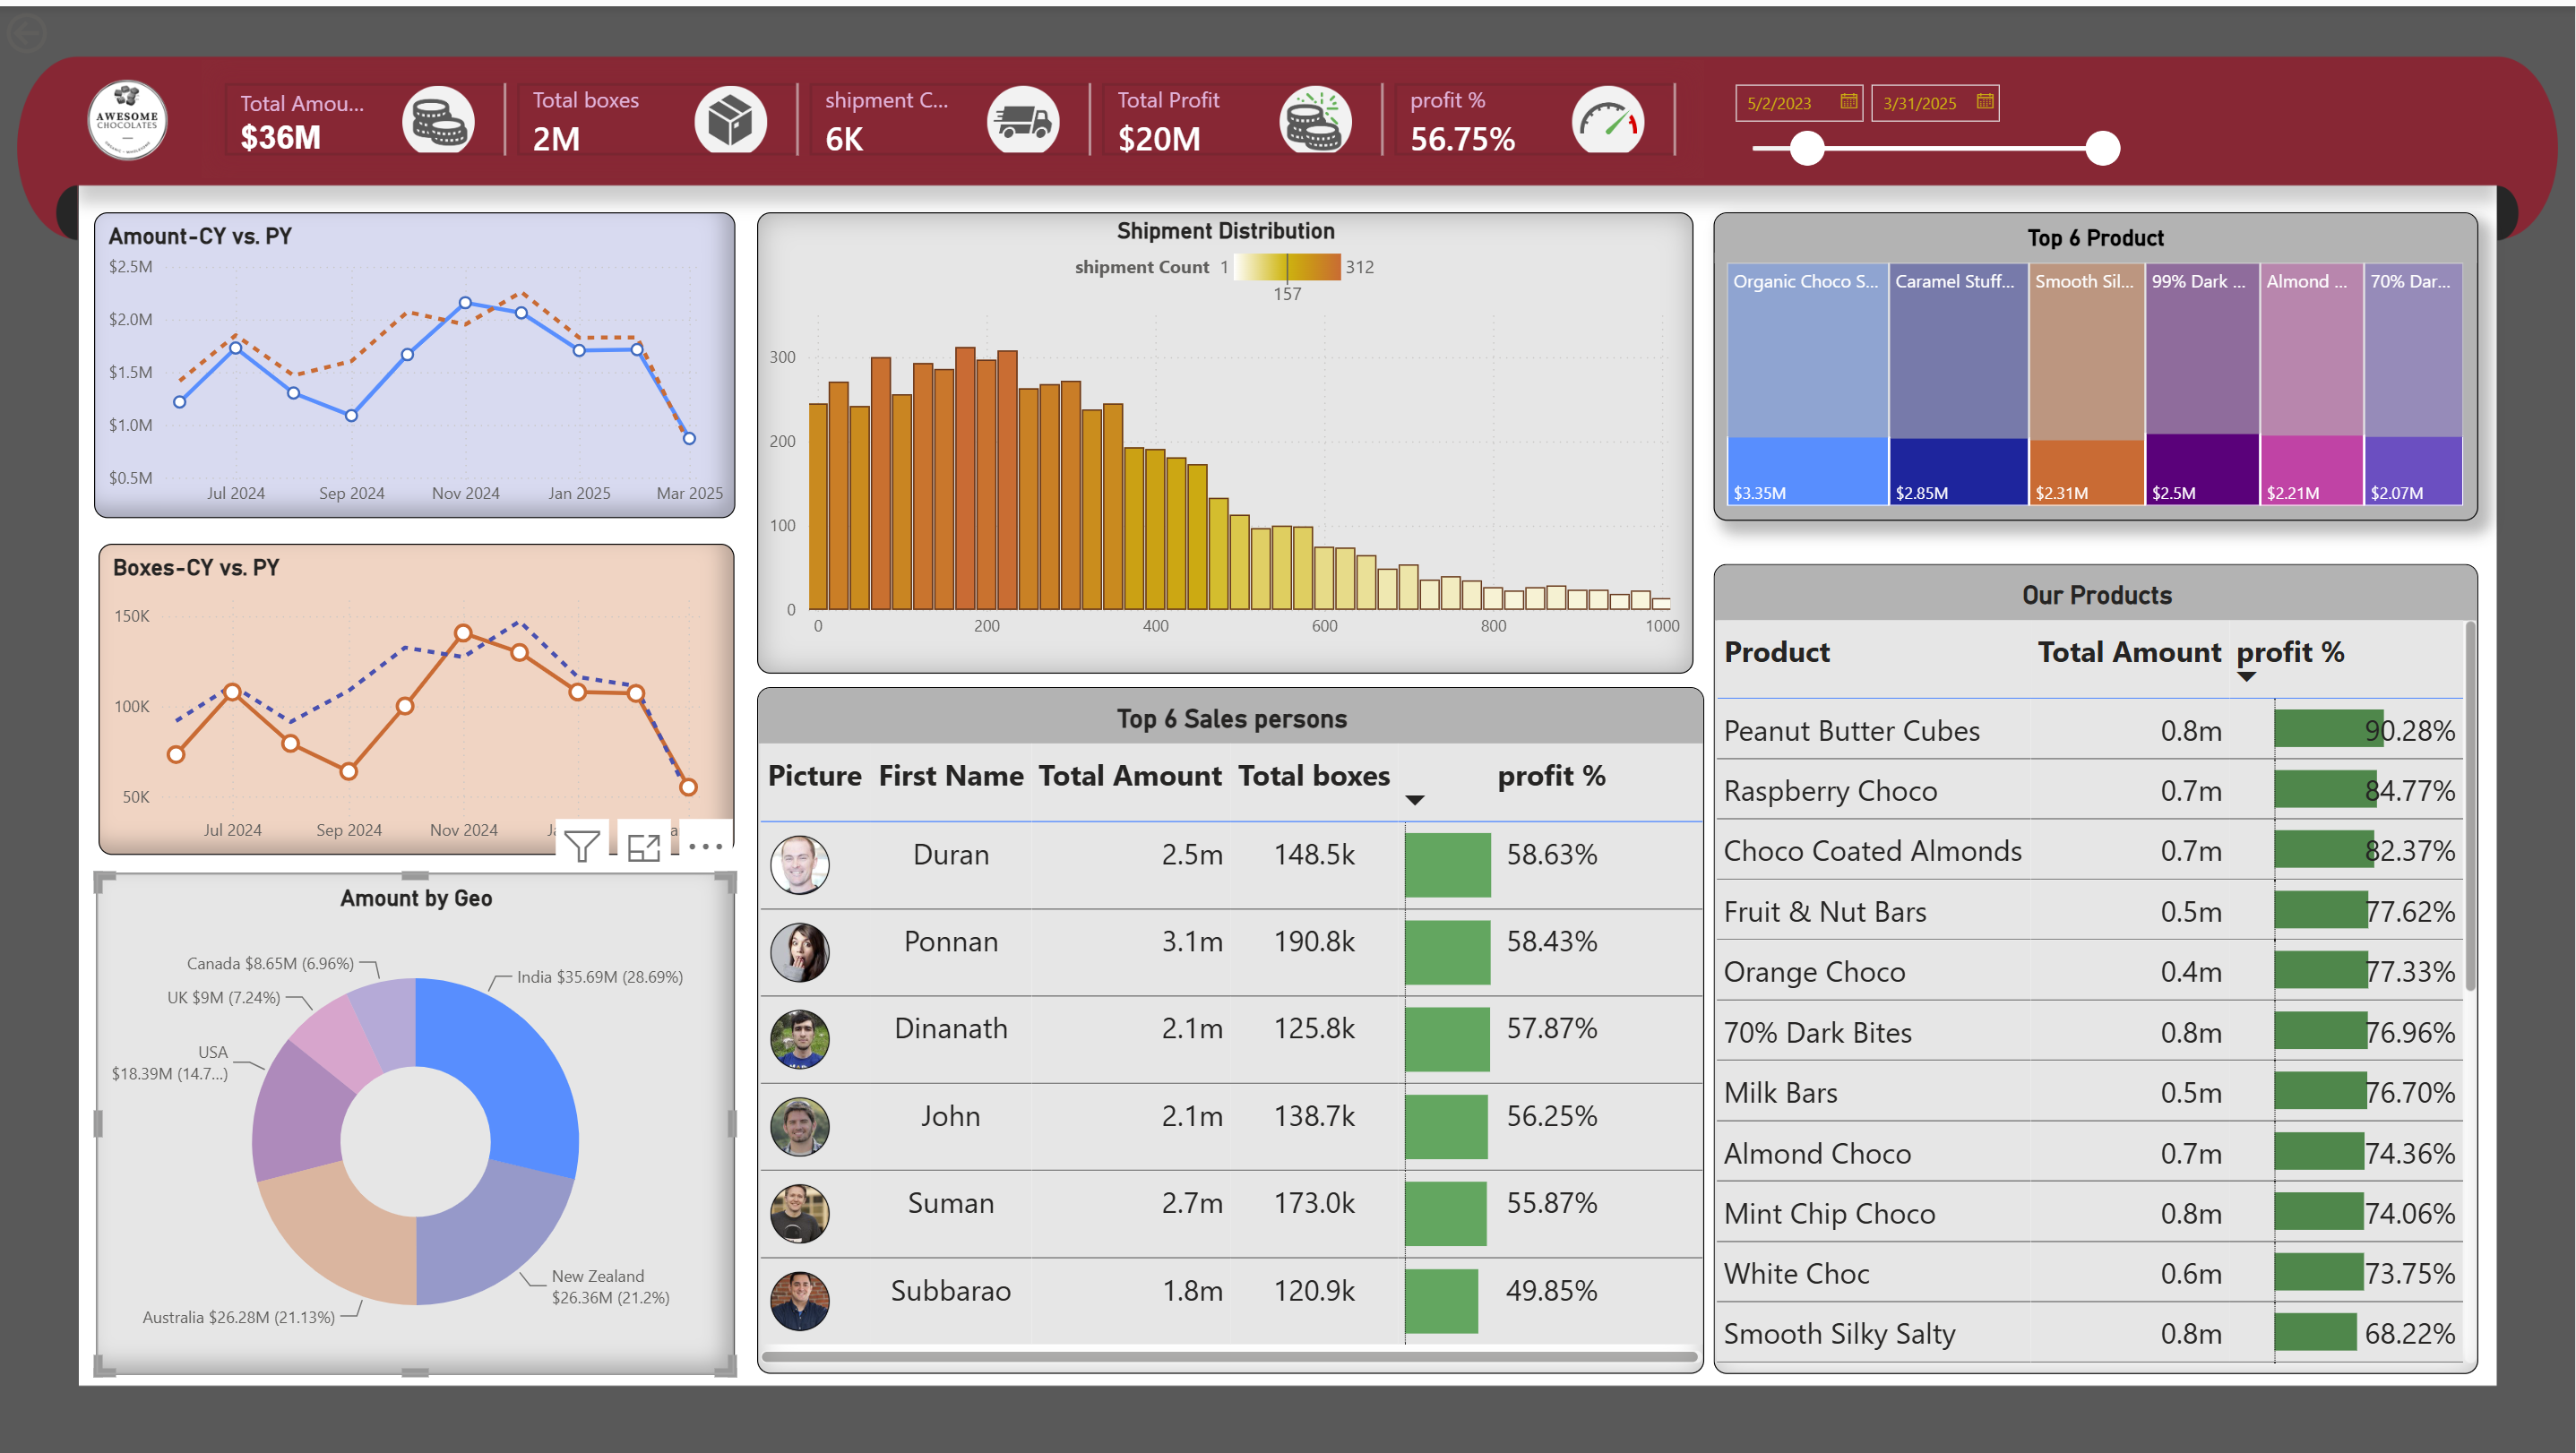

The dashboard page shown, as its layout file describes it:
{"tool":"powerbi","page":{"name":"Page 8","canvas":[1920,1080],"ordinal":7},"visuals":[{"type":"lineChart","title":"Amount-CY vs. PY","fields":{"Y":["shipments.Total Amount","shipments.Total amount(last year)"],"Category":["calendar.Start of Month"]},"box":[70,154,478,228],"z":0},{"type":"lineChart","title":"Boxes-CY vs. PY","fields":{"Category":["calendar.Start of Month"],"Y":["shipments.Total boxes","calendar.Total Boxes(last year)"]},"box":[74,400,474,232],"z":1000},{"type":"donutChart","title":"Amount by Geo","fields":{"Category":["locations.Geo"],"Y":["shipments.Total Amount"]},"box":[72,646,476,374],"z":2000},{"type":"clusteredColumnChart","title":"Shipment Distribution","fields":{"Category":["shipments.Boxes (bins)"],"Y":["shipments.shipment Count"]},"box":[564,154,698,344],"z":3000},{"type":"tableEx","title":"Top 6 Sales persons","fields":{"Values":["people.Picture","people.First Name","shipments.Total Amount","shipments.Total boxes","shipments.profit %"]},"box":[564,508,706,512],"z":4000},{"type":"treemap","title":"Top 6 Product","fields":{"Values":["shipments.Total Amount"],"Group":["products.Product"]},"box":[1278,154,570,230],"z":5000},{"type":"actionButton","box":[0,0,100,40],"z":6000},{"type":"tableEx","title":"Our Products","fields":{"Values":["products.Product","shipments.Total Amount","shipments.profit %"]},"box":[1278,416,570,604],"z":7000},{"type":"cardVisual","fields":{"Data":["shipments.Total Amount","shipments.Total boxes","shipments.shipment Count","shipments.Total Profit","shipments.profit %"]},"box":[150,40,1120,88],"z":8000},{"type":"slicer","fields":{"Values":["calendar.cal_date"]},"box":[1280,48,308,72],"z":9000}]}

Visuals, with their boxes in screenshot pixels (x1, y1, x2, y2), scaled from the page's 1920x1080 canvas onto the 2576x1453 screenshot:
"Amount-CY vs. PY" lineChart: 94:207:736:514
"Boxes-CY vs. PY" lineChart: 99:538:736:850
"Amount by Geo" donutChart: 97:869:736:1372
"Shipment Distribution" clusteredColumnChart: 757:207:1693:670
"Top 6 Sales persons" tableEx: 757:684:1704:1372
"Top 6 Product" treemap: 1715:207:2479:517
actionButton: 0:0:134:54
"Our Products" tableEx: 1715:560:2479:1372
cardVisual - shipments.Total Amount x shipments.Total boxes: 202:54:1704:172
slicer - calendar.cal_date: 1718:64:2131:161
